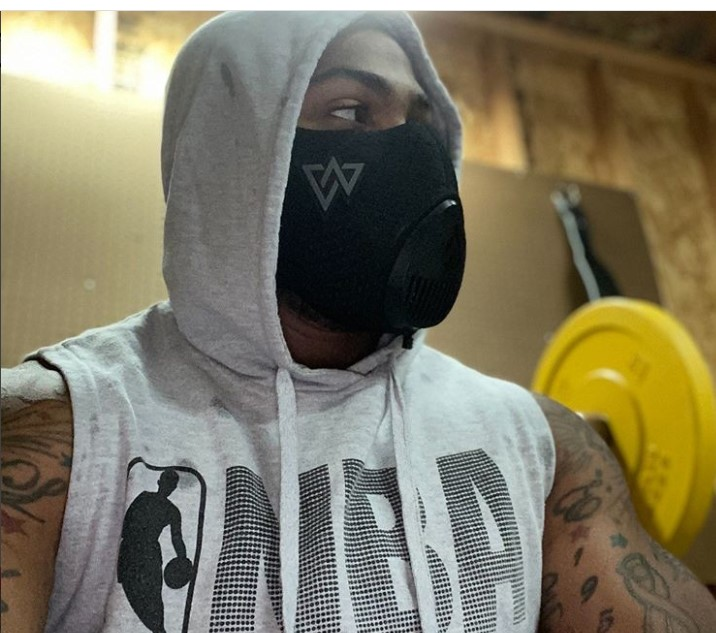face_with_mask: (183, 16, 470, 344)
